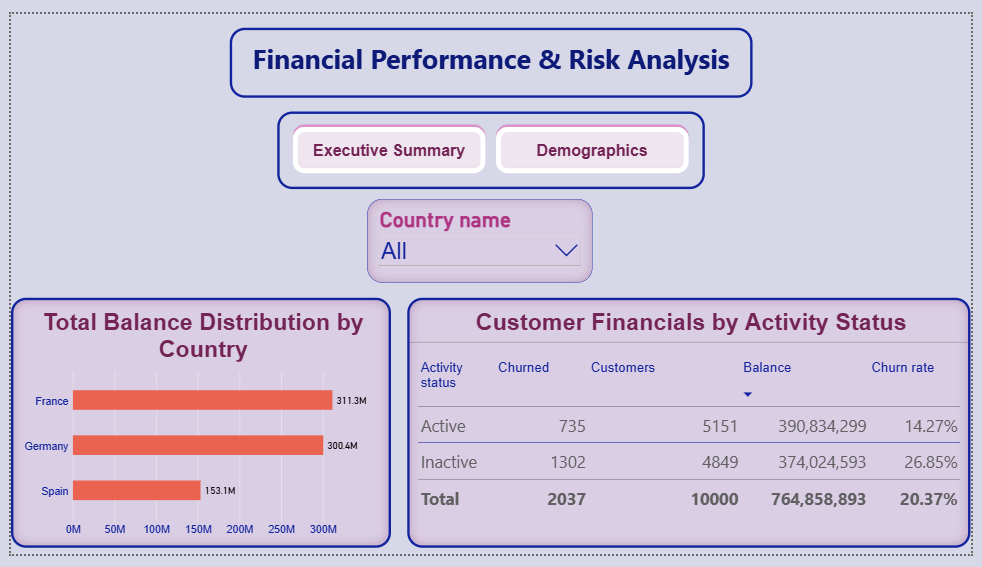

Layout of this report page (visuals, bound fields, positions):
{"tool":"powerbi","page":{"name":"Financials","canvas":[1920,1080],"ordinal":2},"visuals":[{"type":"pageNavigator","box":[533.1,195.5,855,155],"z":0},{"type":"textbox","box":[438.4,26.8,1045.6,140],"z":1000},{"type":"clusteredBarChart","title":"Total Balance Distribution by Country","fields":{"Category":["public geography.country_name"],"Y":["Sum(public bank_accounts.balance)"]},"box":[0,566.7,760,500],"z":2000},{"type":"slicer","fields":{"Values":["public geography.country_name"]},"box":[712.2,370.5,450,167.5],"z":3000},{"type":"tableEx","title":"Customer Financials by Activity Status","fields":{"Values":["public customers.Customer_Status","Sum(public customers.exited)","CountNonNull(public customers.customer_id)","Sum(public bank_accounts.balance)","public customers.Churn rate"]},"box":[793.3,566.7,1126.7,500],"z":4000}]}

Visuals, with their boxes in screenshot pixels (x1, y1, x2, y2), scaled from the page's 1920x1080 canvas onto the 982x567 screenshot:
pageNavigator: l=273, t=103, r=710, b=184
textbox: l=224, t=14, r=759, b=88
"Total Balance Distribution by Country" clusteredBarChart: l=0, t=298, r=389, b=560
slicer - public geography.country_name: l=364, t=195, r=594, b=282
"Customer Financials by Activity Status" tableEx: l=406, t=298, r=981, b=560
